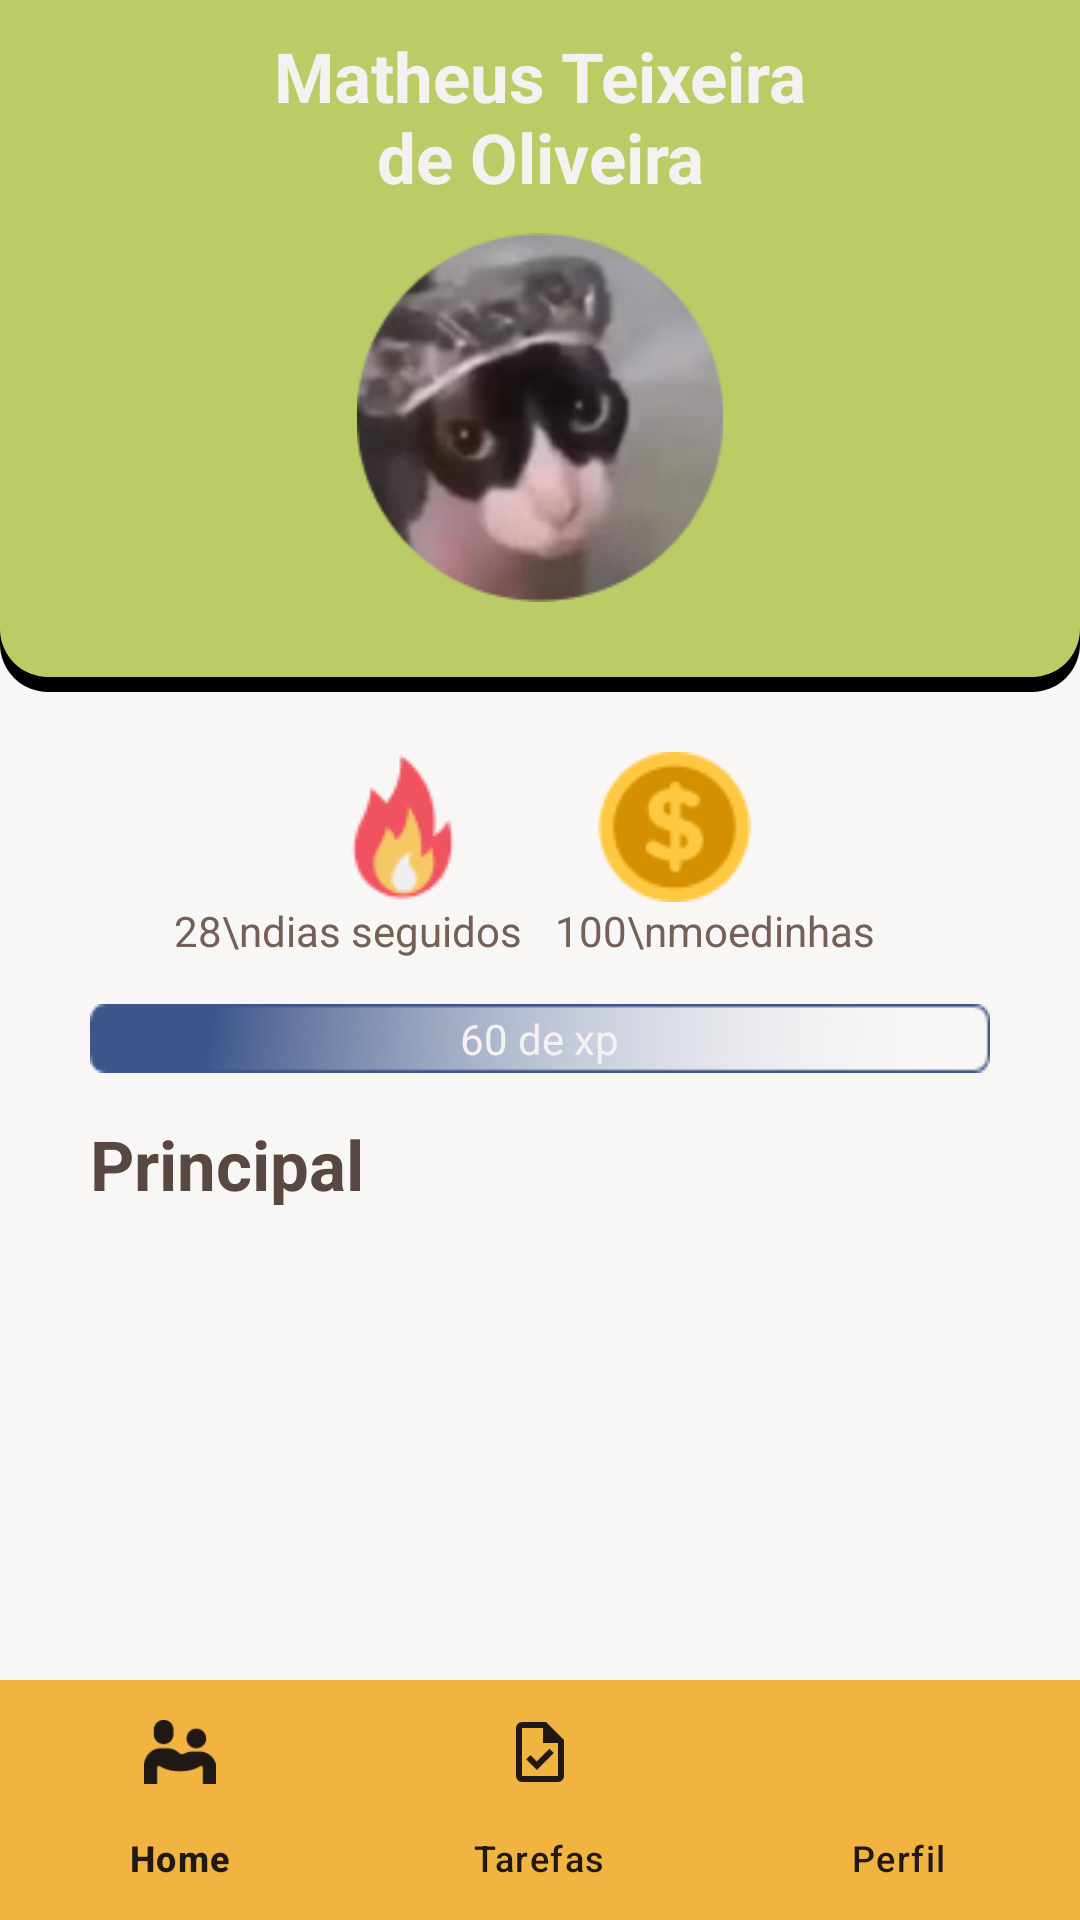

Screen size 1080w x 1920h. Icon name, then its center in pixels as (x,y):
foguinho: (403,827)
